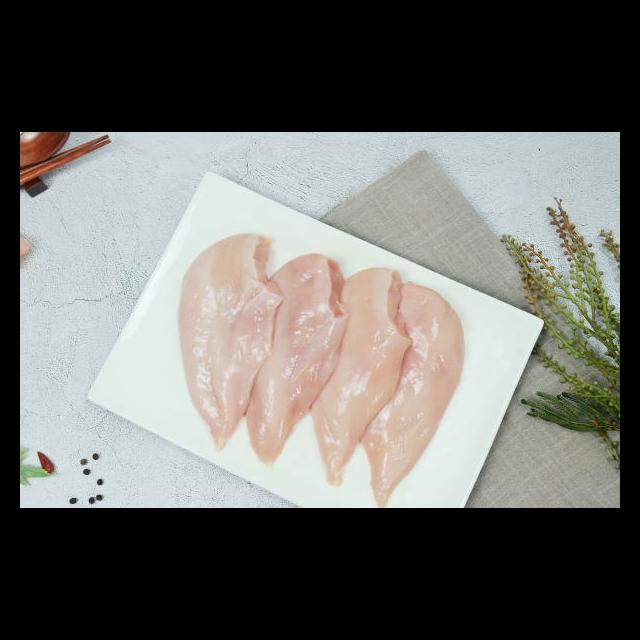chicken: (175, 230, 283, 450), (362, 280, 465, 504), (309, 266, 413, 486), (247, 251, 350, 467)
